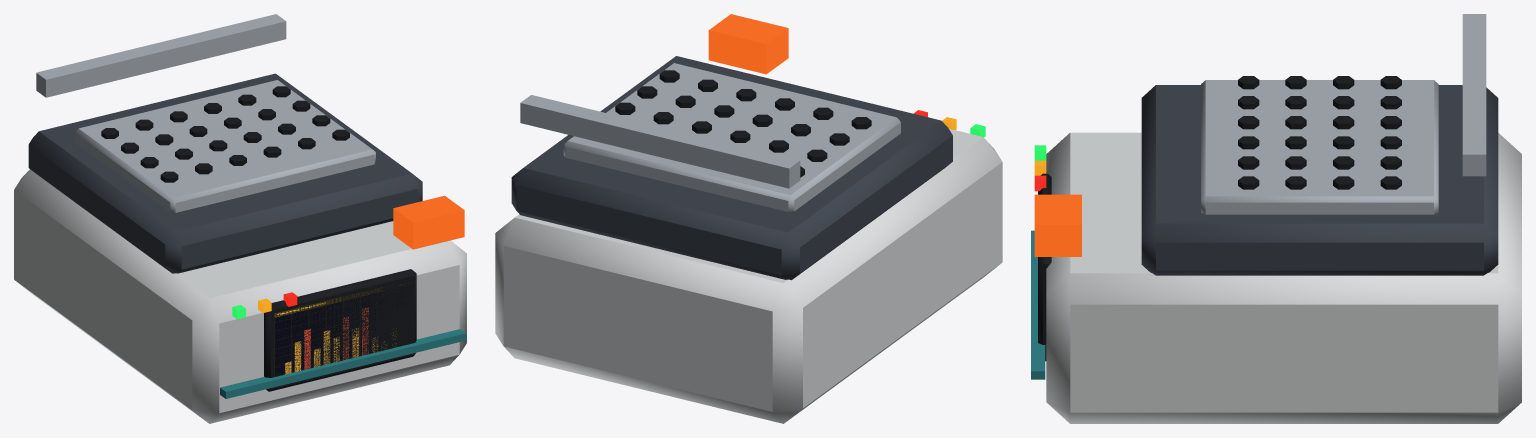
The model's file is analyzer_thermal_cycler.glb.
3 views of the same model, side by side, from view 1: azimuth 30°, elevation 25°; view 2: azimuth 150°, elevation 25°; view 3: azimuth 270°, elevation 25° (orthographic). The views are drawn at different scales.
Parts seen in each view (by area): view 1: analyzer_thermal_cycler; view 2: analyzer_thermal_cycler; view 3: analyzer_thermal_cycler.
Part boxes in pixels (x1,y1,x2,y2): analyzer_thermal_cycler: (14, 14, 466, 423); analyzer_thermal_cycler: (495, 14, 1002, 423); analyzer_thermal_cycler: (1031, 14, 1521, 423).
Size of the model in its own units: 0.32 by 0.25 by 0.413.
10 materials, 1 textured.
